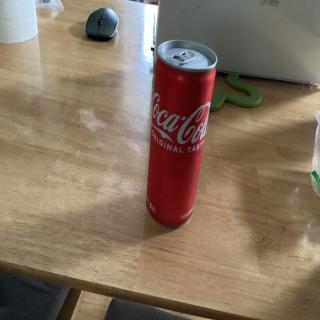cocacola: (144, 37, 216, 235)
